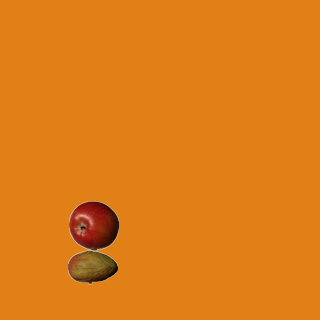Apple Braeburn: (68, 200, 118, 250)
Papaya: (67, 242, 117, 292)
